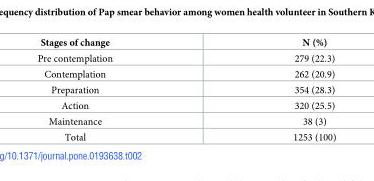table: (36, 37, 335, 142)
table column: (36, 37, 202, 142), (202, 37, 335, 142)
table column header: (36, 37, 335, 50)
table row: (36, 50, 335, 66), (36, 81, 335, 97), (36, 97, 335, 113), (36, 113, 335, 129), (36, 66, 335, 81), (36, 37, 335, 50), (36, 129, 335, 142)
